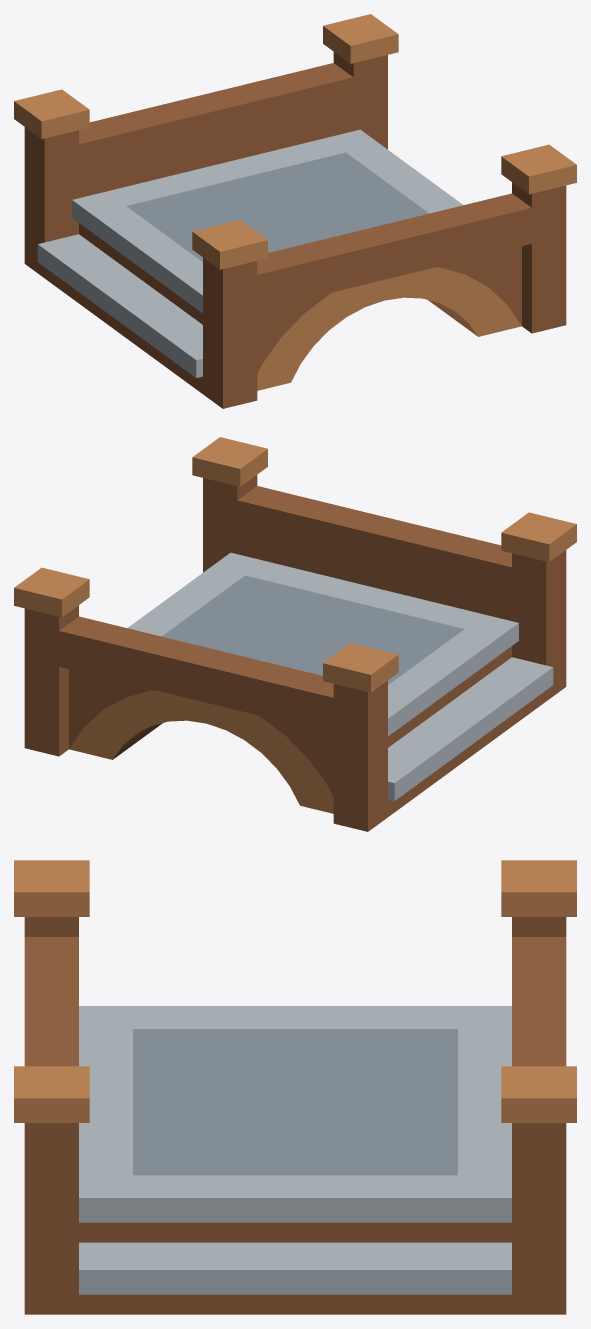
Rendered from bridge-arched.glb.
3 renders of one model, top to bottom at view 1: azimuth 30°, elevation 25°; view 2: azimuth 150°, elevation 25°; view 3: azimuth 270°, elevation 25°, orthographic. The views are drawn at different scales.
Parts seen in each view (by area): view 1: bridge_woodRound; view 2: bridge_woodRound; view 3: bridge_woodRound.
Part boxes in pixels (box(x1,y1,x2,y2)): bridge_woodRound: box(14, 14, 576, 408); bridge_woodRound: box(14, 437, 576, 831); bridge_woodRound: box(14, 860, 576, 1314).
Bounding box in the file's own units: 4.16 × 1.8 × 4.16.
